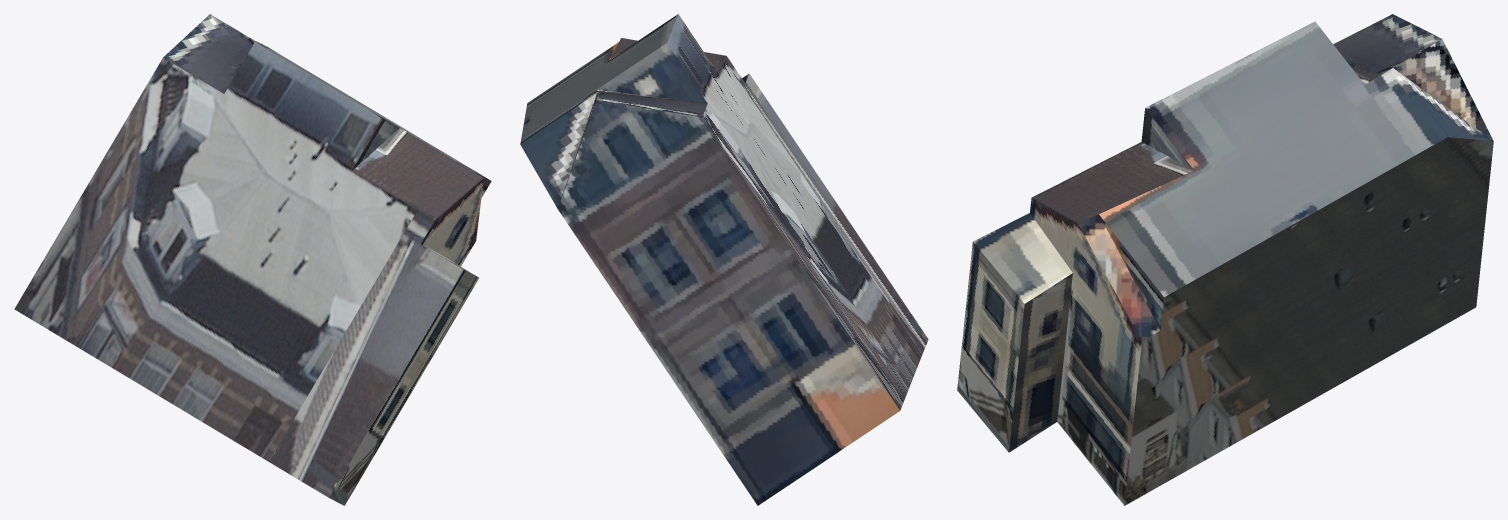
3 views of the same model, side by side, from view 1: azimuth 30°, elevation 25°; view 2: azimuth 150°, elevation 25°; view 3: azimuth 270°, elevation 25° (orthographic). The views are drawn at different scales.
Visible parts, largest first — view 1: BAG_0599100000650085 (×4); view 2: BAG_0599100000650085 (×3); view 3: BAG_0599100000650085 (×5).
Boxes of the visible parts, bbox=[...] form: BAG_0599100000650085 (×4): bbox=[14, 14, 491, 505]; BAG_0599100000650085 (×3): bbox=[520, 14, 928, 505]; BAG_0599100000650085 (×5): bbox=[957, 14, 1493, 505].
Bounding box in the file's own units: 14.78 × 14.18 × 14.15.
1 material, 1 textured.
